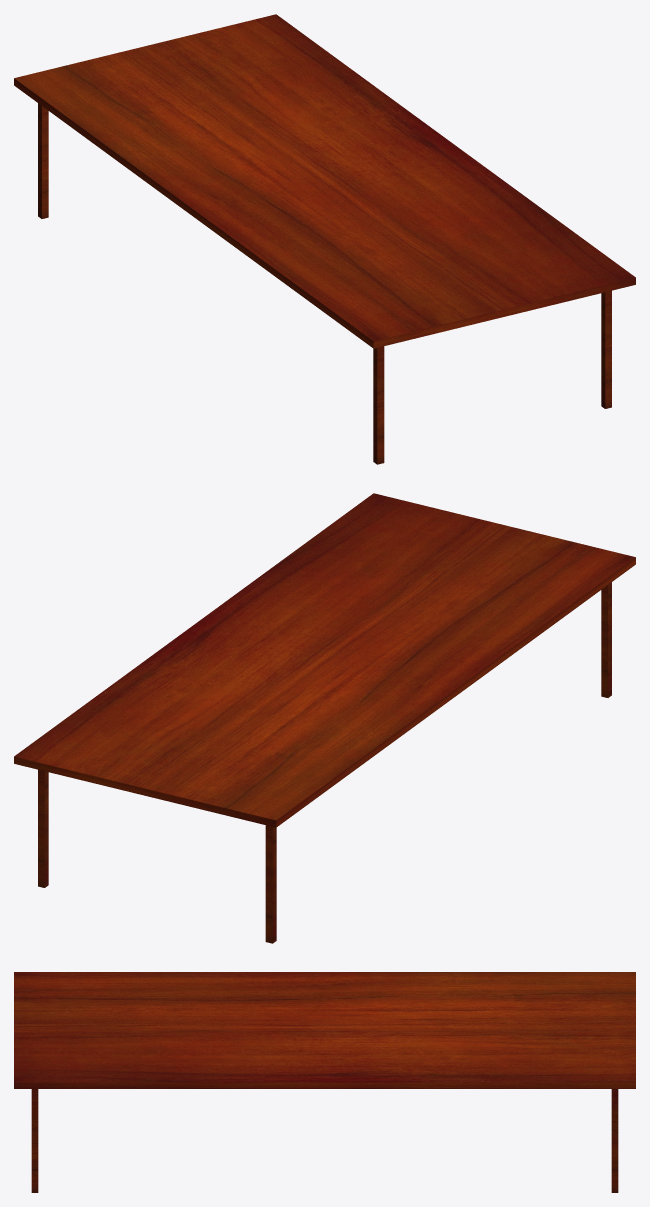
File: Table.obj
The picture shows the model from 3 angles, top to bottom: view 1: azimuth 30°, elevation 25°; view 2: azimuth 150°, elevation 25°; view 3: azimuth 270°, elevation 25°; orthographic projection. The views are drawn at different scales.
Parts seen in each view (by area): view 1: Table_Cube.001; view 2: Table_Cube.001; view 3: Table_Cube.001.
Part boxes in pixels (bbox=[...]): Table_Cube.001: bbox=[14, 14, 635, 464]; Table_Cube.001: bbox=[14, 493, 635, 943]; Table_Cube.001: bbox=[14, 972, 635, 1192].
Bounding box in the file's own units: 6.53 × 3.19 × 15.51.
Materials: 1 (1 with a texture image).
